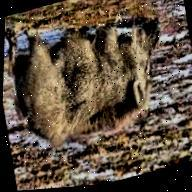boar: (1, 0, 181, 162)
